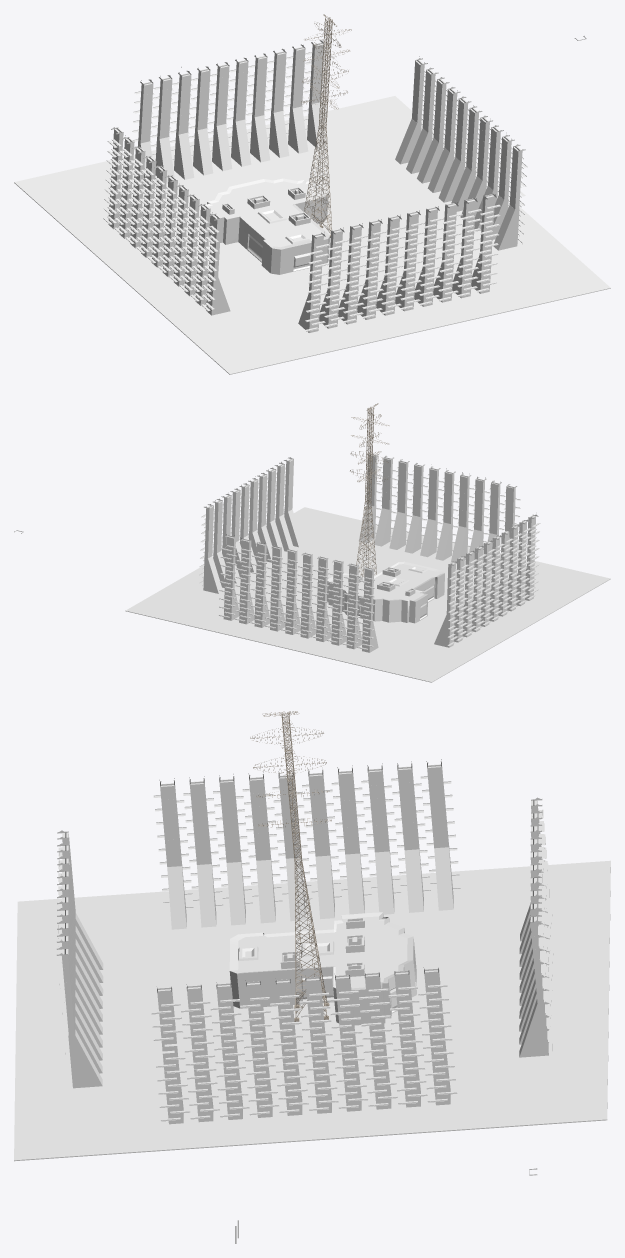
File: placeRadar.glb
The picture shows the model from 3 angles, top to bottom: view 1: azimuth 30°, elevation 25°; view 2: azimuth 150°, elevation 25°; view 3: azimuth 270°, elevation 25°; orthographic projection. The views are drawn at different scales.
Visible parts, largest first — view 1: Scene Root_Box155_Box155-GEODE_Material #59_0, Scene Root_Box154_Box154-GEODE_Material #62_0, Scene Root_tour024_ID1558_ID1560-GEODE_OTH01_0_0, Scene Root_tour_ID665_ID665-GEODE_OTH01_0_6, Scene Root_tour_ID665_ID665-GEODE_OTH01_0_7, Scene Root_tour_ID665_ID665-GEODE_OTH01_0_0, Scene Root_tour_ID665_ID665-GEODE_OTH01_0_1, Scene Root_tour_ID665_ID665-GEODE_OTH01_0_3, Scene Root_tour_ID665_ID665-GEODE_OTH01_0_4, Scene Root_tour_ID665_ID665-GEODE_OTH01_0_2, Scene Root_tour_ID665_ID665-GEODE_OTH01_0_8, Scene Root_tour016_ID1236_ID1560-GEODE_OTH01_0_0 (+18 smaller); view 2: Scene Root_Box155_Box155-GEODE_Material #59_0, Scene Root_Box154_Box154-GEODE_Material #62_0, Scene Root_tour016_ID1236_ID1560-GEODE_OTH01_0_0, Scene Root_tour014_ID1141_ID1205-GEODE_OTH01_0_0, Scene Root_tour006_ID810_ID1205-GEODE_OTH01_0_0, Scene Root_tour012_ID1073_ID1205-GEODE_OTH01_0_0, Scene Root_tour005_ID851_ID1205-GEODE_OTH01_0_0, Scene Root_tour009_ID951_ID1205-GEODE_OTH01_0_0, Scene Root_tour008_ID899_ID1205-GEODE_OTH01_0_0, Scene Root_tour034_ID1852_ID1905-GEODE_OTH01_0_0, Scene Root_tour015_ID1205_ID1205-GEODE_OTH01_0_0, Scene Root_tour_ID442_ID442-GEODE_OTH01_0_0 (+11 smaller); view 3: Scene Root_Box155_Box155-GEODE_Material #59_0, Scene Root_Box154_Box154-GEODE_Material #62_0, Scene Root_tour008_ID899_ID1205-GEODE_OTH01_0_0, Scene Root_tour_ID665_ID665-GEODE_OTH01_0_8, Scene Root_tour028_ID1595_ID1905-GEODE_OTH01_0_0, Scene Root_tour029_ID1662_ID1662-GEODE_OTH01_0_0, Scene Root_tour034_ID1852_ID1905-GEODE_OTH01_0_0, Scene Root_tour026_ID1604_ID1905-GEODE_OTH01_0_0, Scene Root_tour027_ID1583_ID1905-GEODE_OTH01_0_0, Scene Root_tour033_ID1799_ID1905-GEODE_OTH01_0_0, Scene Root_tour030_ID1751_ID1905-GEODE_OTH01_0_0, Scene Root_tour031_ID1710_ID1905-GEODE_OTH01_0_0 (+3 smaller).
Boxes of the visible parts, bbox=[...] form: Scene Root_Box155_Box155-GEODE_Material #59_0: bbox=[14, 96, 610, 374]; Scene Root_Box154_Box154-GEODE_Material #62_0: bbox=[206, 178, 330, 274]; Scene Root_tour024_ID1558_ID1560-GEODE_OTH01_0_0: bbox=[493, 205, 519, 250]; Scene Root_tour_ID665_ID665-GEODE_OTH01_0_6: bbox=[193, 128, 213, 175]; Scene Root_tour_ID665_ID665-GEODE_OTH01_0_7: bbox=[288, 106, 308, 153]; Scene Root_tour_ID665_ID665-GEODE_OTH01_0_0: bbox=[174, 132, 194, 179]; Scene Root_tour_ID665_ID665-GEODE_OTH01_0_1: bbox=[231, 119, 251, 166]; Scene Root_tour_ID665_ID665-GEODE_OTH01_0_3: bbox=[250, 115, 270, 162]; Scene Root_tour_ID665_ID665-GEODE_OTH01_0_4: bbox=[269, 111, 289, 157]; Scene Root_tour_ID665_ID665-GEODE_OTH01_0_2: bbox=[212, 124, 232, 170]; Scene Root_tour_ID665_ID665-GEODE_OTH01_0_8: bbox=[307, 102, 326, 149]; Scene Root_tour016_ID1236_ID1560-GEODE_OTH01_0_0: bbox=[395, 118, 421, 164]; Scene Root_Box155_Box155-GEODE_Material #59_0: bbox=[125, 507, 610, 682]; Scene Root_Box154_Box154-GEODE_Material #62_0: bbox=[327, 561, 444, 623]; Scene Root_tour016_ID1236_ID1560-GEODE_OTH01_0_0: bbox=[203, 556, 222, 593]; Scene Root_tour014_ID1141_ID1205-GEODE_OTH01_0_0: bbox=[435, 522, 452, 560]; Scene Root_tour006_ID810_ID1205-GEODE_OTH01_0_0: bbox=[389, 511, 406, 549]; Scene Root_tour012_ID1073_ID1205-GEODE_OTH01_0_0: bbox=[374, 508, 391, 546]; Scene Root_tour005_ID851_ID1205-GEODE_OTH01_0_0: bbox=[404, 515, 422, 553]; Scene Root_tour009_ID951_ID1205-GEODE_OTH01_0_0: bbox=[420, 519, 437, 557]; Scene Root_tour008_ID899_ID1205-GEODE_OTH01_0_0: bbox=[358, 505, 376, 542]; Scene Root_tour034_ID1852_ID1905-GEODE_OTH01_0_0: bbox=[434, 613, 454, 647]; Scene Root_tour015_ID1205_ID1205-GEODE_OTH01_0_0: bbox=[451, 526, 468, 563]; Scene Root_tour_ID442_ID442-GEODE_OTH01_0_0: bbox=[362, 618, 378, 652]; Scene Root_Box155_Box155-GEODE_Material #59_0: bbox=[14, 860, 610, 1161]; Scene Root_Box154_Box154-GEODE_Material #62_0: bbox=[229, 912, 416, 1025]; Scene Root_tour008_ID899_ID1205-GEODE_OTH01_0_0: bbox=[68, 1029, 102, 1088]; Scene Root_tour_ID665_ID665-GEODE_OTH01_0_8: bbox=[519, 999, 548, 1057]; Scene Root_tour028_ID1595_ID1905-GEODE_OTH01_0_0: bbox=[197, 862, 216, 927]; Scene Root_tour029_ID1662_ID1662-GEODE_OTH01_0_0: bbox=[167, 864, 186, 929]; Scene Root_tour034_ID1852_ID1905-GEODE_OTH01_0_0: bbox=[434, 846, 453, 910]; Scene Root_tour026_ID1604_ID1905-GEODE_OTH01_0_0: bbox=[256, 858, 275, 923]; Scene Root_tour027_ID1583_ID1905-GEODE_OTH01_0_0: bbox=[226, 860, 245, 925]; Scene Root_tour033_ID1799_ID1905-GEODE_OTH01_0_0: bbox=[315, 854, 334, 919]; Scene Root_tour030_ID1751_ID1905-GEODE_OTH01_0_0: bbox=[404, 848, 423, 912]; Scene Root_tour031_ID1710_ID1905-GEODE_OTH01_0_0: bbox=[375, 850, 394, 914].
Bounding box in the file's own units: 24.72 × 13.81 × 17.25.
